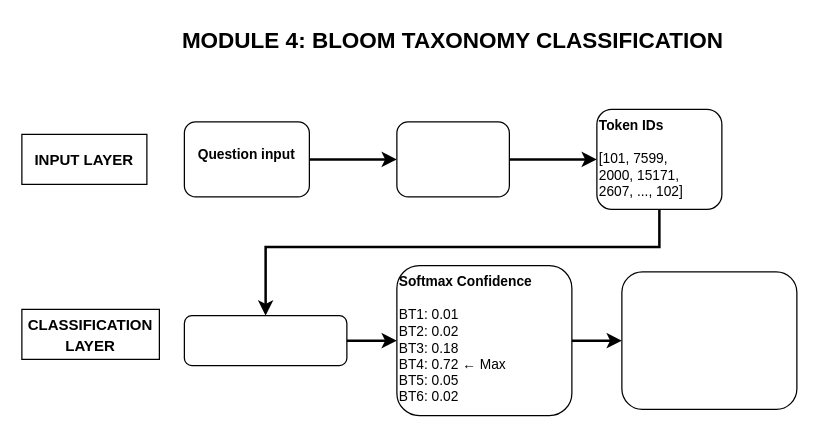
This 819x438 diagram has some shape labels left out. Each missing label, with the box of its shape:
Classification Result bloom_level: BT4 (Analyze) bloom_confidence: 0.72: (621, 271, 797, 409)
Fine-tuned DistilBERT (final_bloom_model): (183, 314, 347, 366)
Tokenizer DistilBERT tokenizer: (396, 121, 509, 197)
